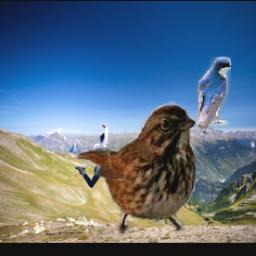Sparrow: (74, 101, 195, 235)
Swallow: (196, 57, 231, 128)
